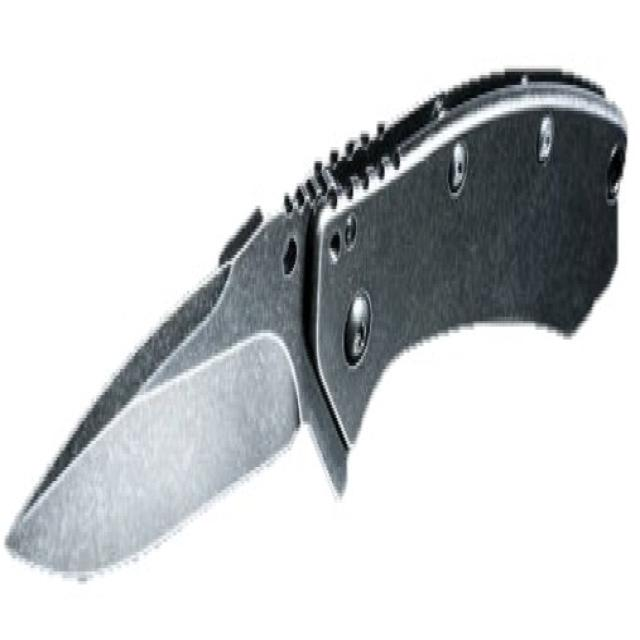knife: (3, 1, 634, 638)
